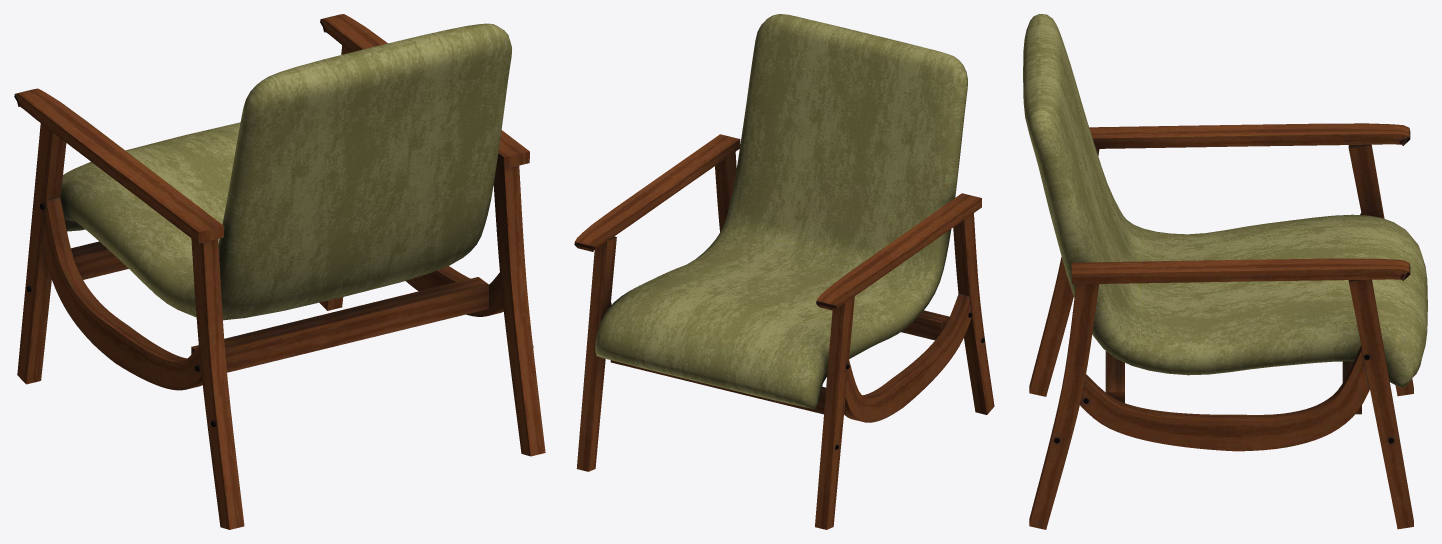
Rendered from armchair_shell_web.glb.
3 views of the same model, side by side, from view 1: azimuth 30°, elevation 25°; view 2: azimuth 150°, elevation 25°; view 3: azimuth 270°, elevation 25° (orthographic). The views are drawn at different scales.
Parts seen in each view (by area): view 1: ArmchairShell_Body; view 2: ArmchairShell_Body; view 3: ArmchairShell_Body.
Part boxes in pixels (<box>): ArmchairShell_Body: <box>14,14,545,529</box>; ArmchairShell_Body: <box>574,14,994,529</box>; ArmchairShell_Body: <box>1023,14,1427,529</box>.
Bounding box in the file's own units: 0.715 × 0.9102 × 0.8363.
Materials: 1 (1 with a texture image).
